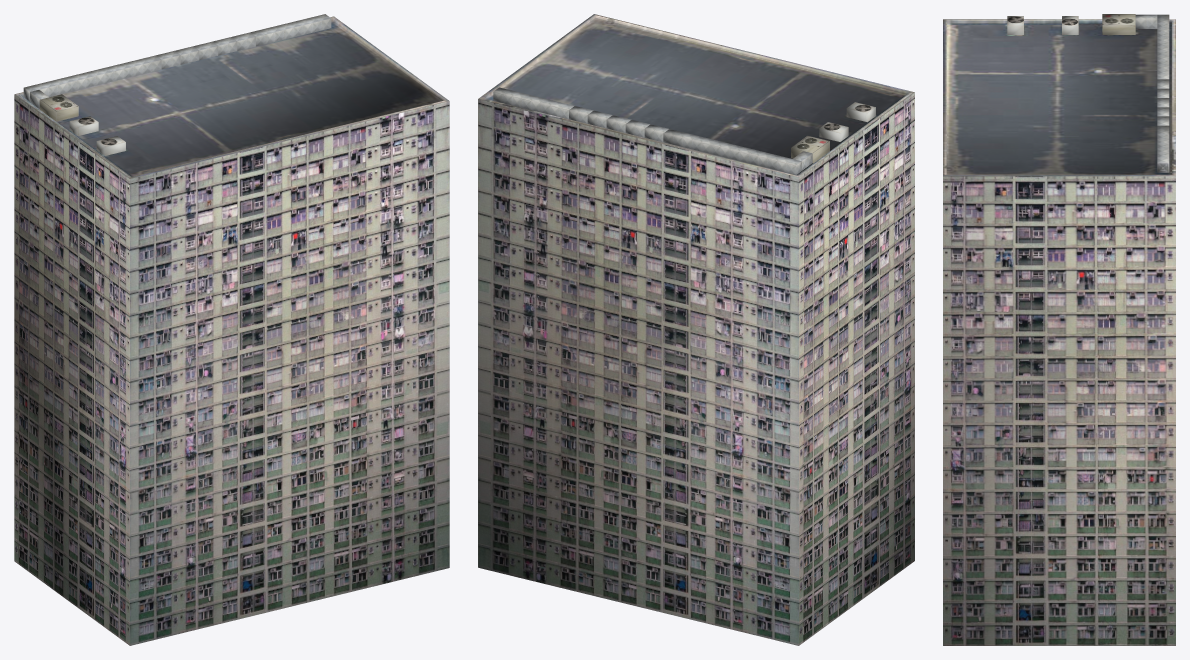
The model's file is building1.obj.
3 renders of one model, left to right at view 1: azimuth 30°, elevation 25°; view 2: azimuth 150°, elevation 25°; view 3: azimuth 270°, elevation 25°, orthographic.
Bounding box in the file's own units: 44.76 × 63.54 × 28.06.
1 material, 1 textured.
